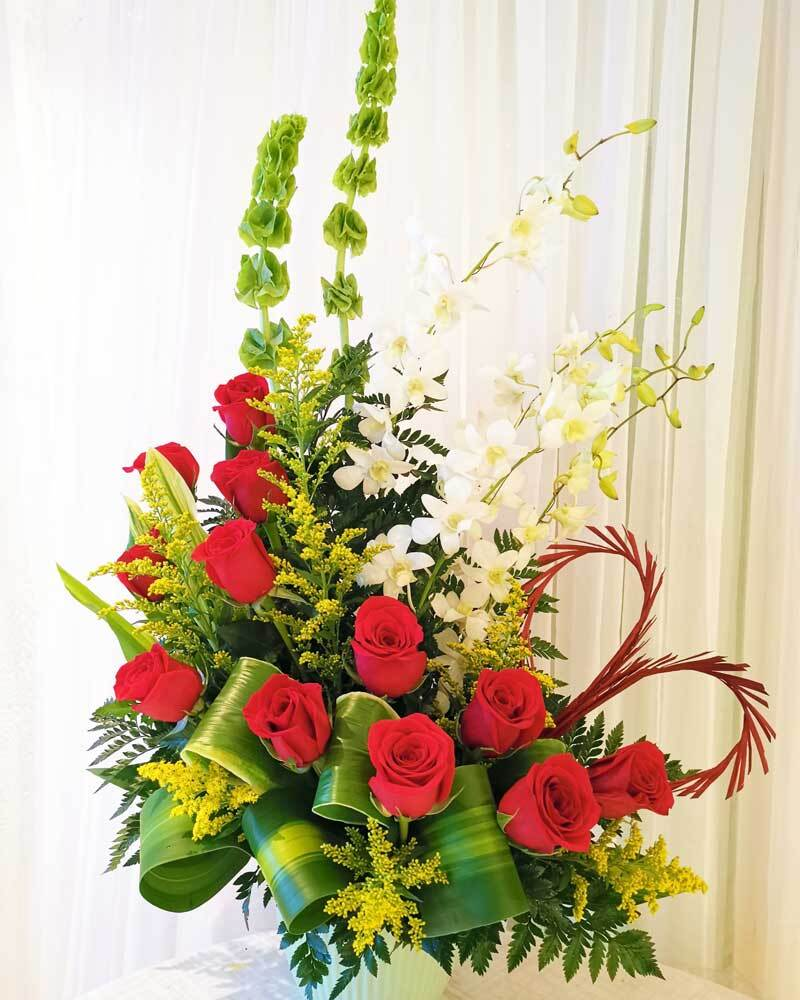RedRose: (500, 753, 607, 865), (102, 416, 216, 498), (340, 592, 427, 687), (193, 349, 280, 440), (375, 711, 450, 814), (201, 441, 296, 520), (253, 669, 330, 766), (101, 639, 189, 721), (587, 742, 669, 829), (189, 518, 273, 592), (469, 661, 534, 742), (107, 545, 166, 604)
